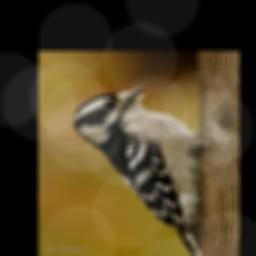Woodpecker: (72, 83, 211, 255)
